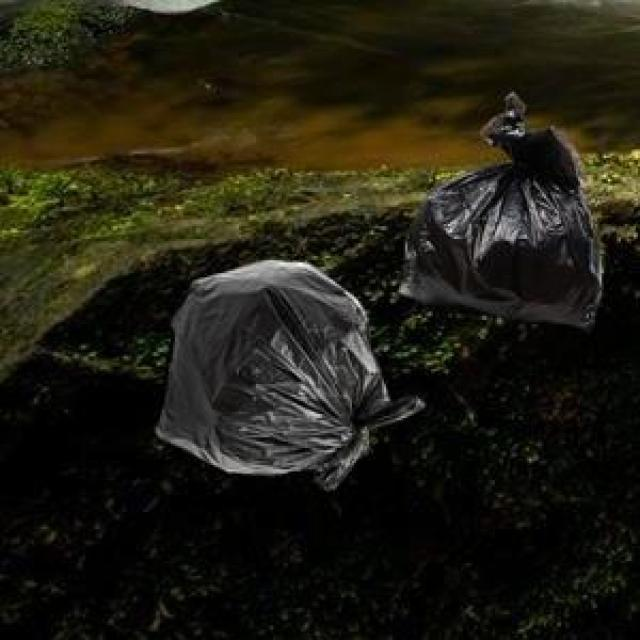Vinyl: (160, 248, 422, 498), (414, 109, 597, 332)
